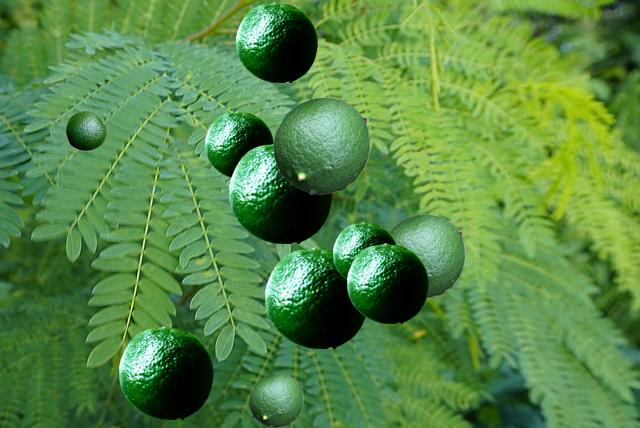calamansi: (265, 247, 366, 347), (229, 143, 331, 242), (273, 97, 369, 193), (119, 326, 212, 418), (236, 2, 316, 81), (347, 243, 427, 322), (389, 214, 464, 297), (205, 111, 272, 177), (333, 222, 396, 280), (249, 373, 302, 426), (65, 110, 106, 150)
